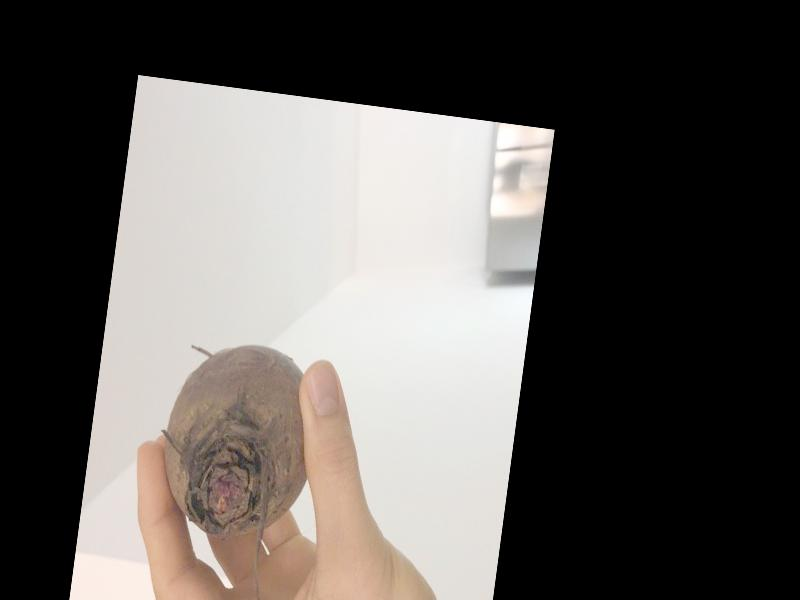Beet: (133, 332, 325, 600)
